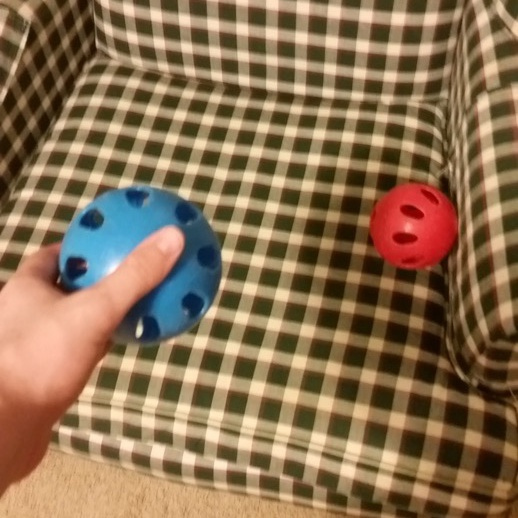blueball: (53, 180, 226, 351)
redball: (366, 180, 462, 272)
